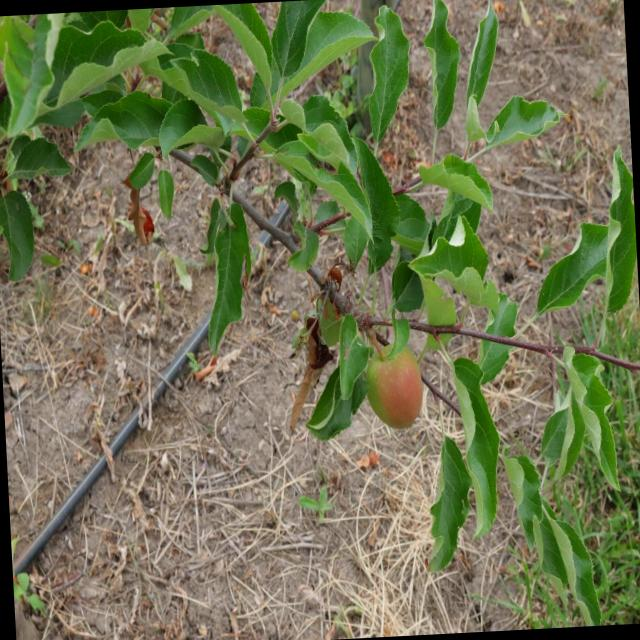-FireBlight-: (289, 260, 348, 430)
